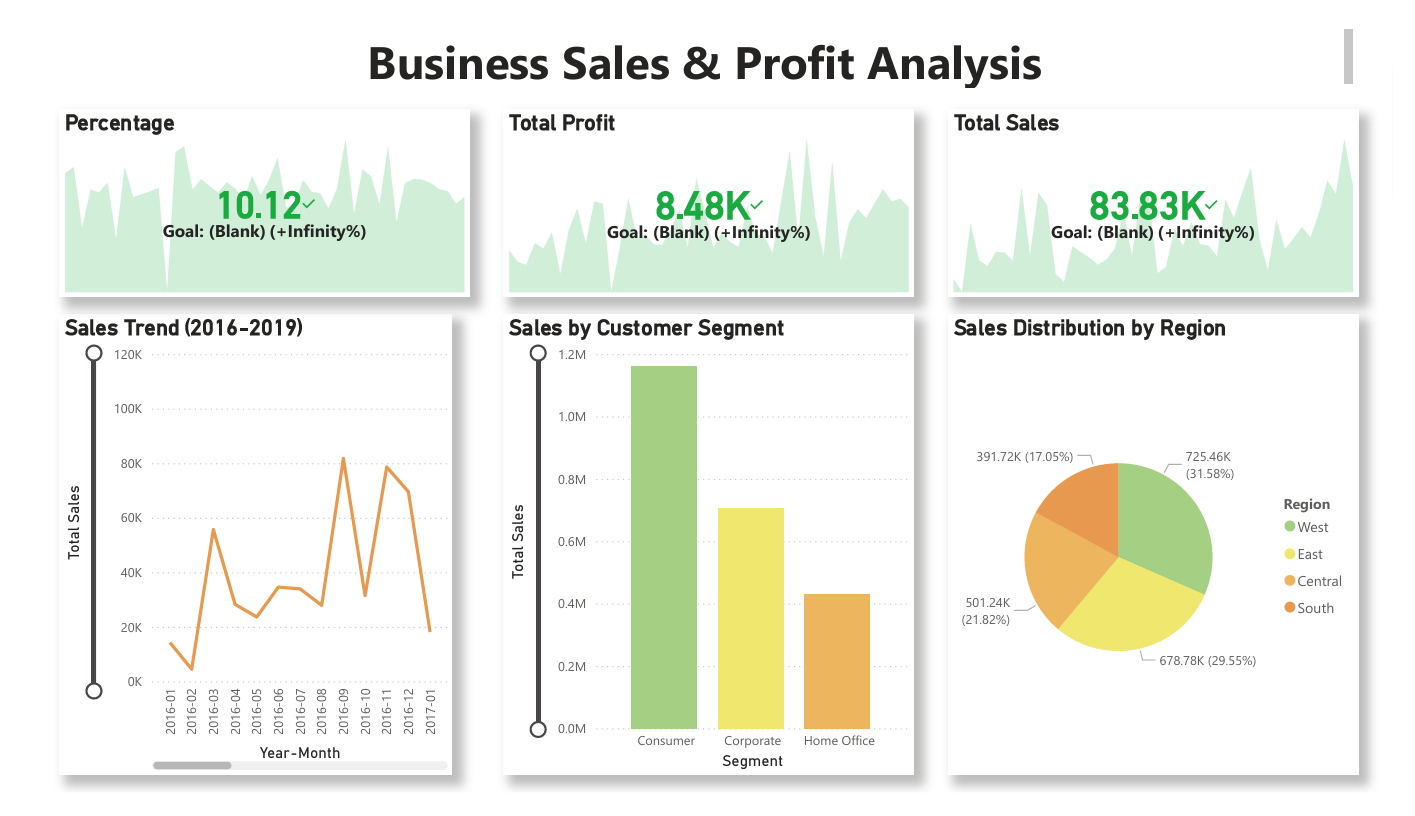

This screenshot's page, from the dashboard's own definition file:
{"tool":"powerbi","page":{"name":"Sales performance dashboard","canvas":[1280,720],"ordinal":0},"visuals":[{"type":"textbox","box":[16,0,1264,64],"z":0},{"type":"card","fields":{"Values":["Orders.Total Sales"]},"box":[448,96,384,144],"z":1000},{"type":"card","fields":{"Values":["Orders.Total Profit"]},"box":[32,96,368,144],"z":2000},{"type":"card","fields":{"Values":["Orders.Profit Margin %"]},"box":[864,96,384,144],"z":3000},{"type":"lineChart","title":"SALES TREND","fields":{"Category":["Date.Year-Month"],"Y":["Orders.Total Sales"]},"box":[32,272,368,416],"z":4000},{"type":"columnChart","title":"SALES BY SEGMENT","fields":{"Category":["Orders.Segment"],"Y":["Sum(Orders.Sales)"]},"box":[448,272,384,416],"z":5000},{"type":"pieChart","fields":{"Y":["Sum(Orders.Sales)","Orders.Prior Year Sales"],"Category":["Orders.Region"]},"box":[864,272,384,416],"z":6000}]}

Visuals, with their boxes in screenshot pixels (x1, y1, x2, y2), scaled from the page's 1280x720 canvas onto the 1415x816 screenshot:
textbox: bbox=(18, 0, 1414, 73)
card - Orders.Total Sales: bbox=(495, 109, 920, 272)
card - Orders.Total Profit: bbox=(35, 109, 442, 272)
card - Orders.Profit Margin %: bbox=(955, 109, 1380, 272)
"SALES TREND" lineChart: bbox=(35, 308, 442, 780)
"SALES BY SEGMENT" columnChart: bbox=(495, 308, 920, 780)
pieChart - Sum(Orders.Sales) x Orders.Prior Year Sales: bbox=(955, 308, 1380, 780)
